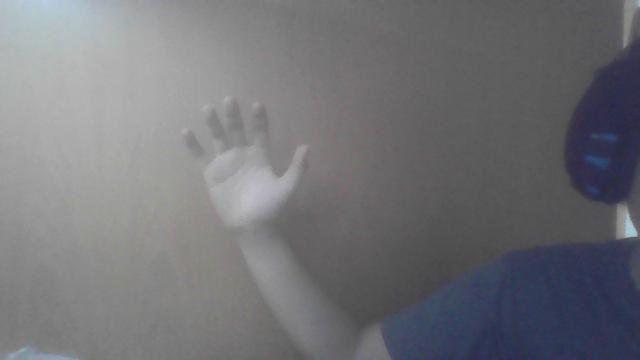Stop: (182, 100, 310, 228)
